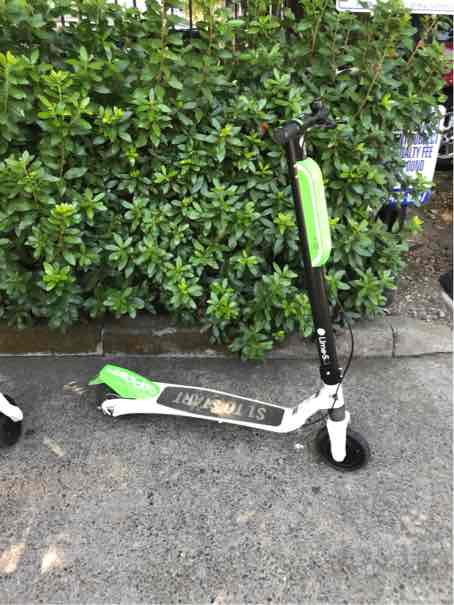scooter: (73, 91, 367, 473)
